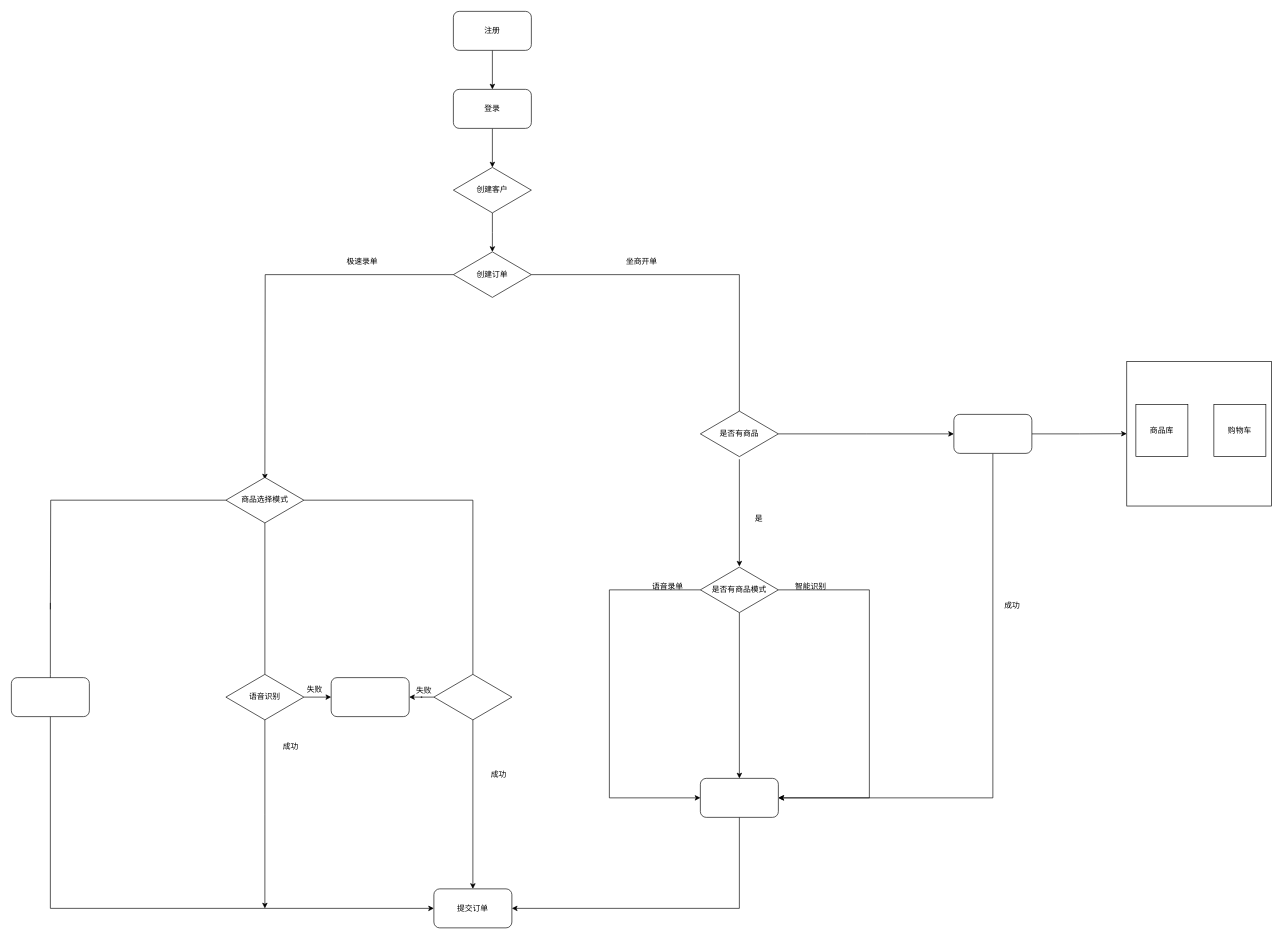
This 1283x939 diagram has some shape labels left out. Each missing label, with the centre of its shape:
"创建商品" belongs at pixel 992 433.
"商品录入" belongs at pixel 50 697.
"批量识别" belongs at pixel 472 697.
"添加购物车" belongs at pixel 739 797.
"错误提示" belongs at pixel 370 697.
